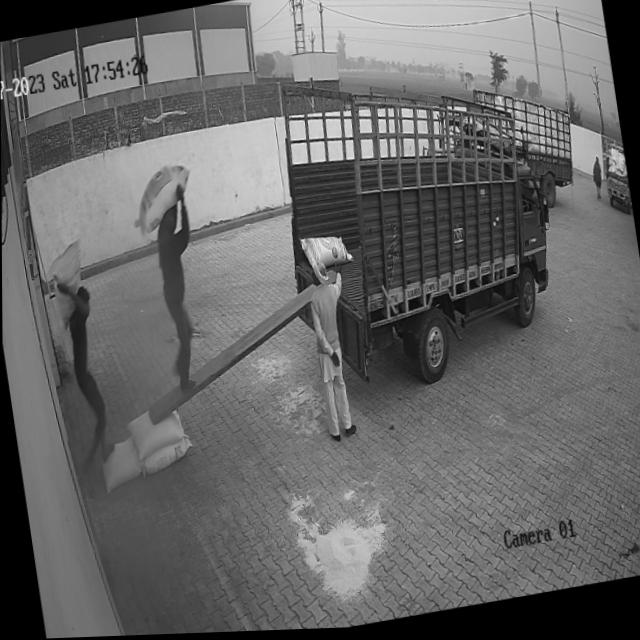sack: (132, 164, 197, 237), (43, 239, 91, 332), (124, 406, 186, 461), (97, 436, 142, 491), (299, 231, 353, 274), (140, 436, 194, 476)
